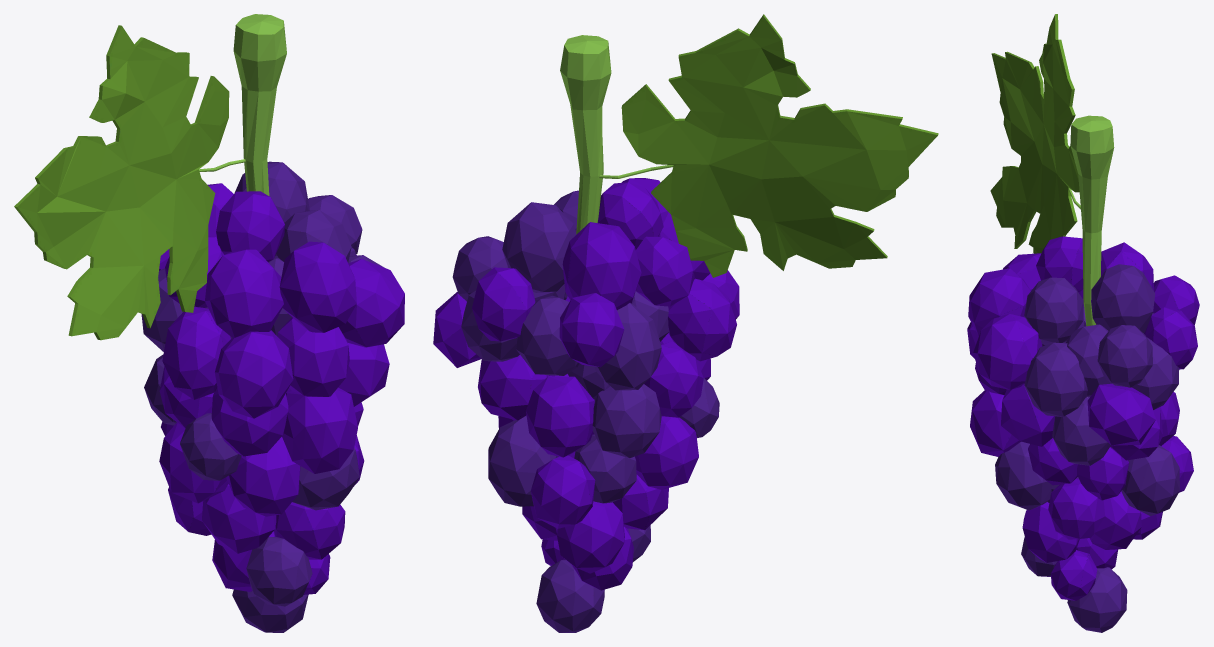
File: grapes.glb
The picture shows the model from 3 angles, left to right: view 1: azimuth 30°, elevation 25°; view 2: azimuth 150°, elevation 25°; view 3: azimuth 270°, elevation 25°; orthographic projection. The views are drawn at different scales.
Visible parts, largest first — view 1: node_id73; view 2: node_id73; view 3: node_id73.
Boxes of the visible parts, x1=… form: node_id73: x1=14, y1=14, x2=404, y2=632; node_id73: x1=433, y1=14, x2=938, y2=632; node_id73: x1=967, y1=14, x2=1199, y2=632.
Size of the model in its own units: 0.3564 by 0.512 by 0.1979.
Materials: 1 (1 with a texture image).
